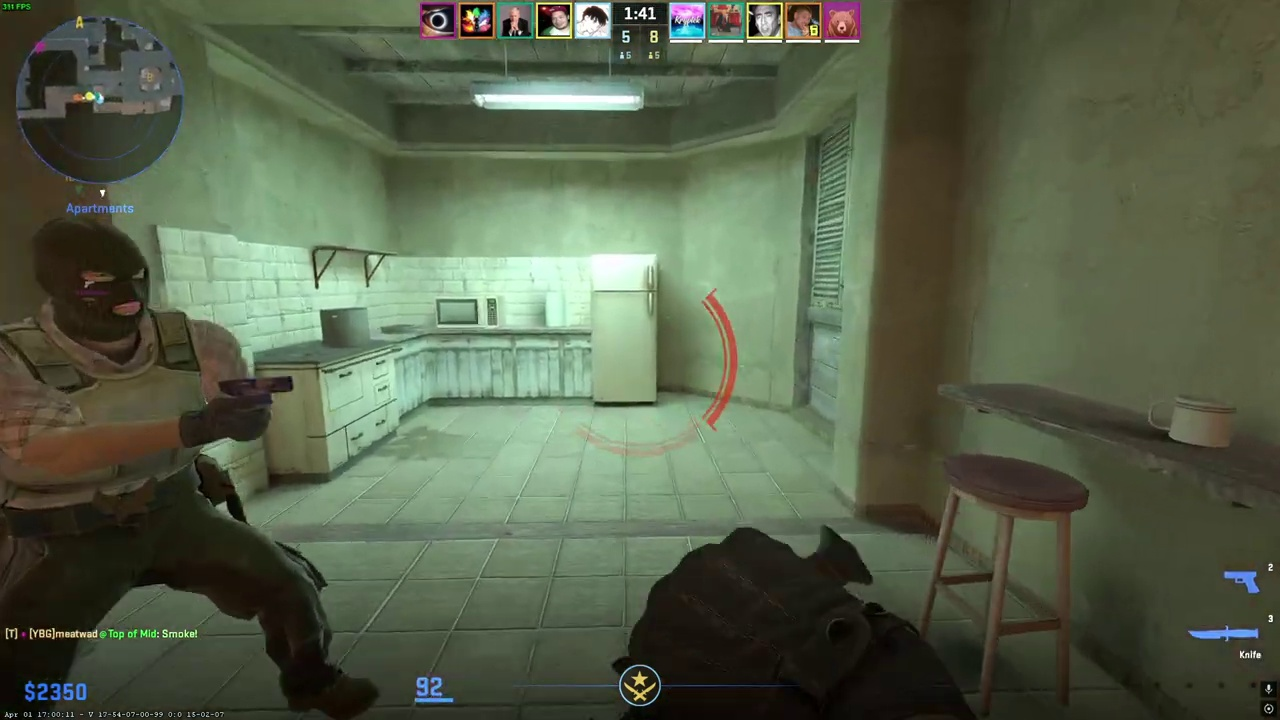Terrorist: (0, 215, 322, 720)
